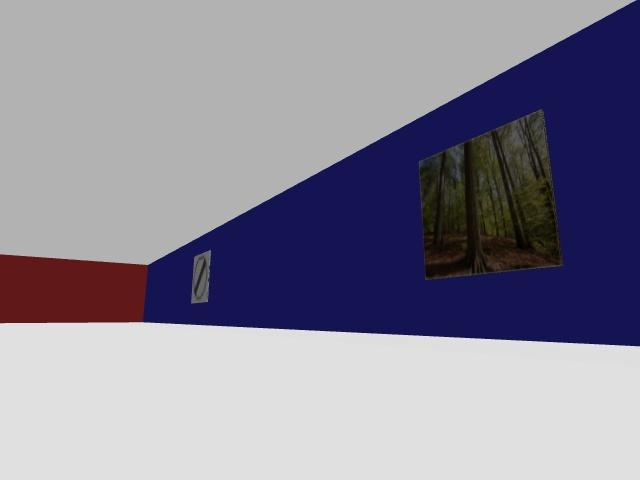tree: (518, 117, 559, 250), (491, 130, 526, 248), (463, 141, 490, 273), (433, 151, 446, 246)
